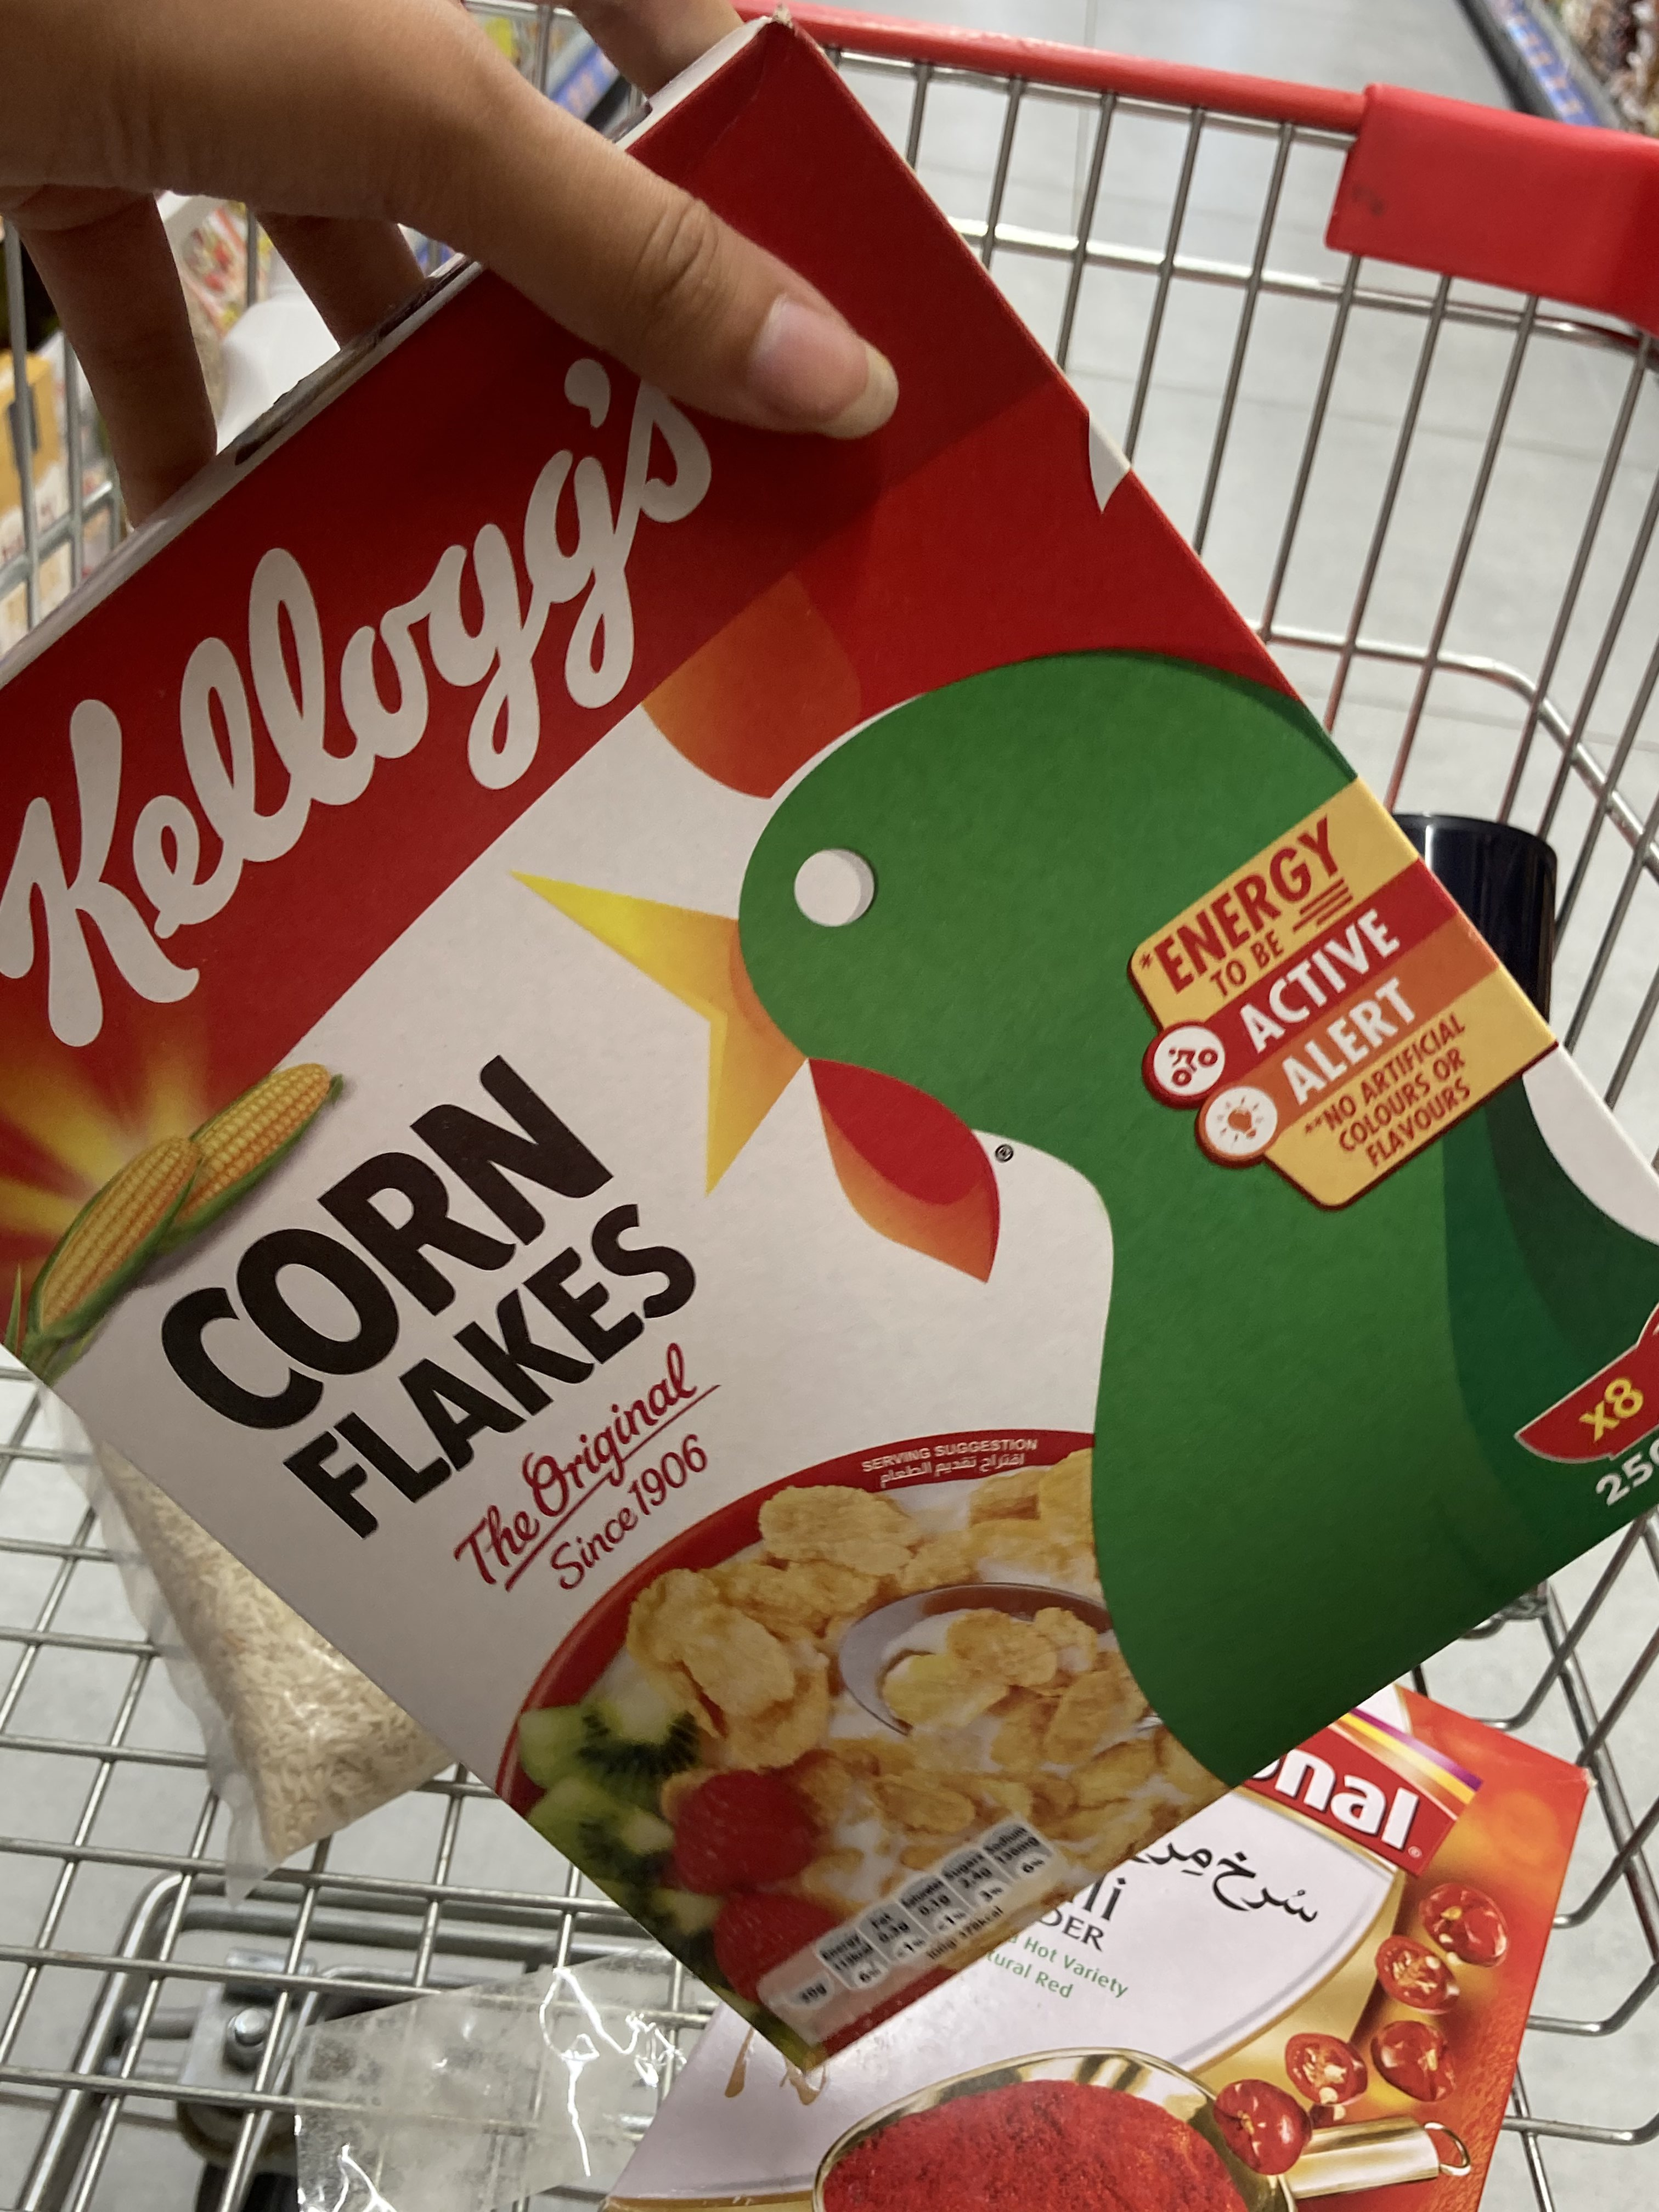Kellogg's Corn Flakes: (2, 16, 1659, 2073)
